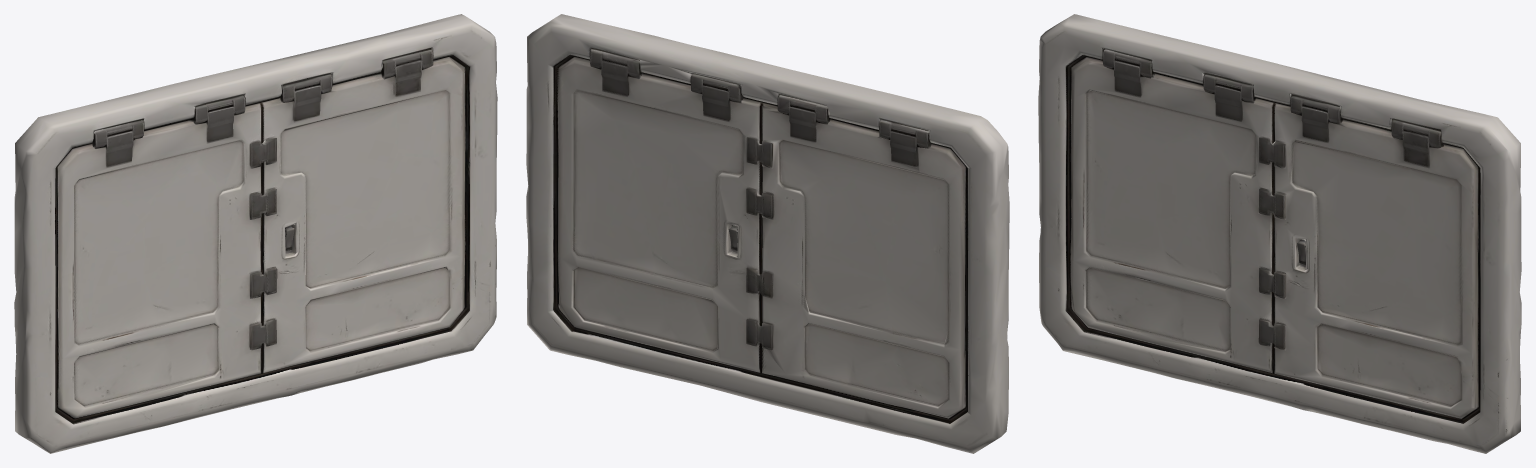
The model's file is cargoHatch.glb.
3 renders of one model, left to right at view 1: azimuth 30°, elevation 25°; view 2: azimuth 150°, elevation 25°; view 3: azimuth 330°, elevation 25°, orthographic.
Visible parts, largest first — view 1: tripo_node_4a52d94a-a5e4-4290-9ea4-f28f5b24e4e3; view 2: tripo_node_4a52d94a-a5e4-4290-9ea4-f28f5b24e4e3; view 3: tripo_node_4a52d94a-a5e4-4290-9ea4-f28f5b24e4e3.
Boxes of the visible parts, left/top/right/bottom form: tripo_node_4a52d94a-a5e4-4290-9ea4-f28f5b24e4e3: left=14, top=14, right=497, bottom=453; tripo_node_4a52d94a-a5e4-4290-9ea4-f28f5b24e4e3: left=526, top=14, right=1009, bottom=453; tripo_node_4a52d94a-a5e4-4290-9ea4-f28f5b24e4e3: left=1038, top=14, right=1521, bottom=453.
Size of the model in its own units: 6 by 4 by 0.3999.
1 material, 1 textured.
